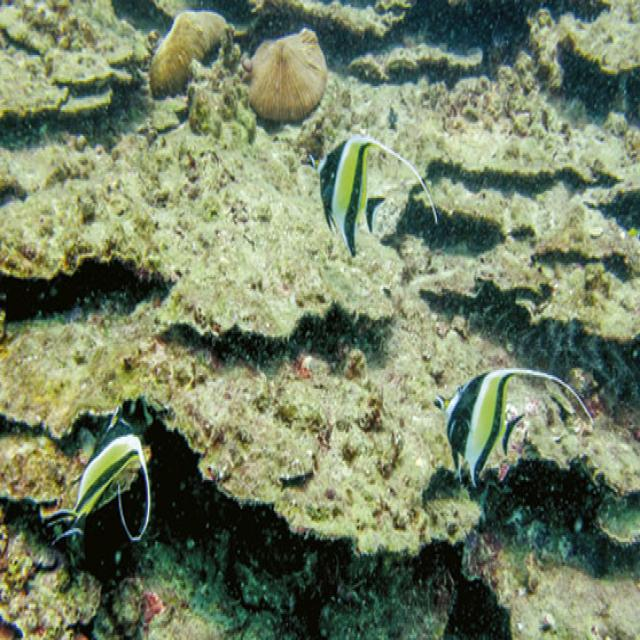MorishIdol: (431, 363, 594, 492), (305, 129, 439, 260)
